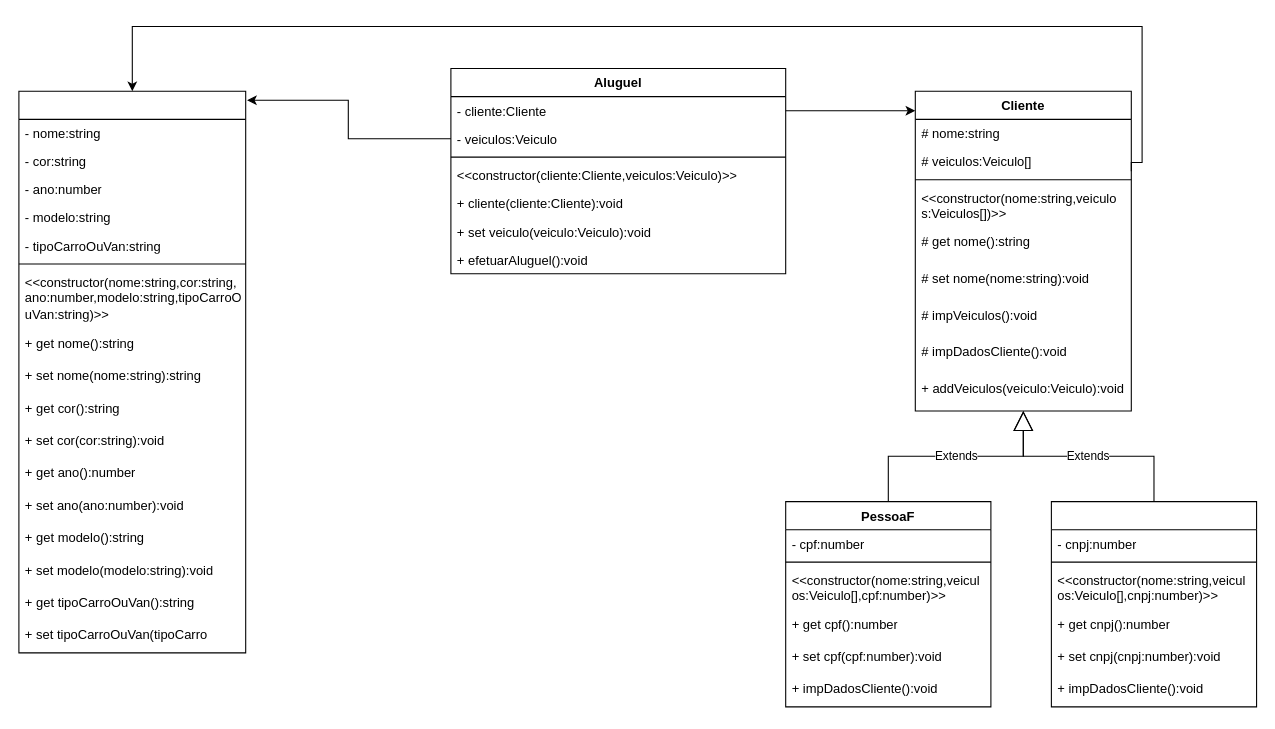
The diagram is 1275 pixels wide and 729 high, and some of its shapes have lost their labels. Each missing label, with the box of its shape:
Empresa: (1050, 501, 1257, 707)
Veiculo: (18, 90, 246, 653)
